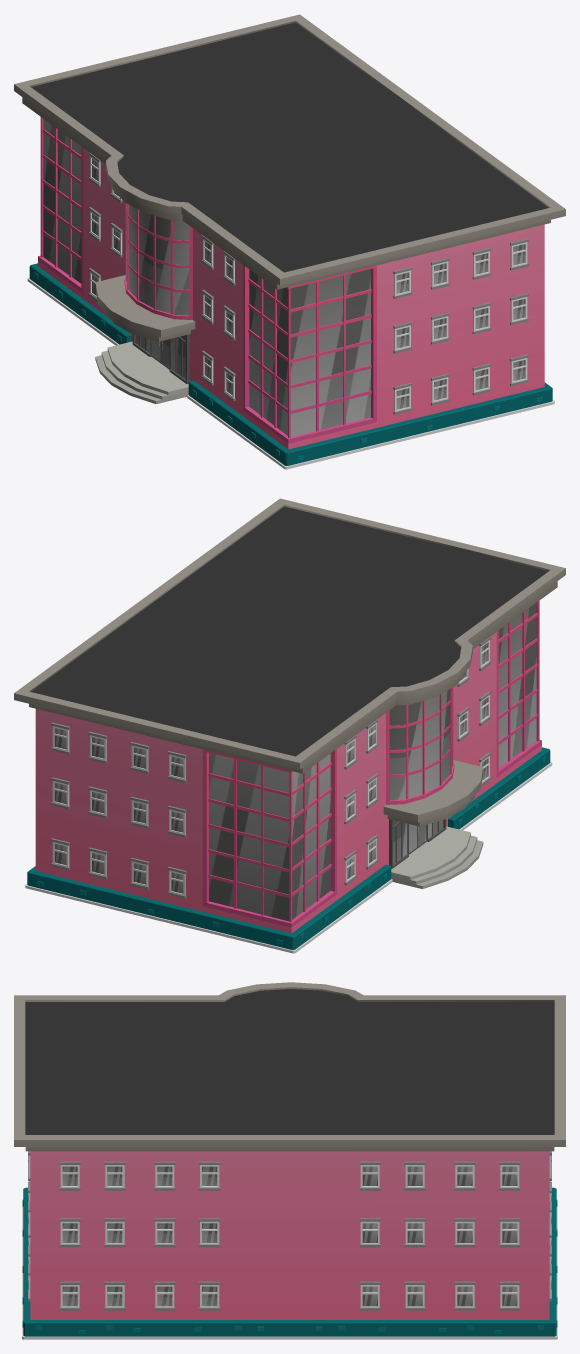
The model's file is Building_23_C.fbx.
3 views of the same model, one above another, from view 1: azimuth 30°, elevation 25°; view 2: azimuth 150°, elevation 25°; view 3: azimuth 270°, elevation 25° (orthographic). The views are drawn at different scales.
Parts seen in each view (by area): view 1: Building_23_C; view 2: Building_23_C; view 3: Building_23_C.
Boxes of the visible parts, x1,y1,x2,y2 form: Building_23_C: (14,14,565,469); Building_23_C: (14,498,565,953); Building_23_C: (14,982,565,1339).
Bounding box in the file's own units: 2073 × 1207 × 2972.
